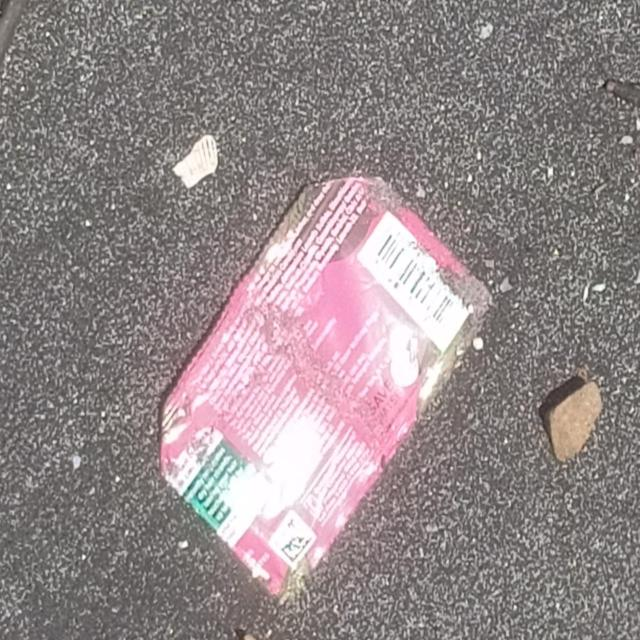litter: (154, 172, 492, 598)
